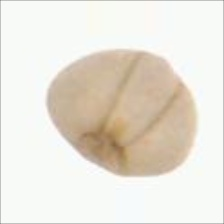L5: (99, 50, 186, 144), (75, 129, 133, 177), (137, 46, 187, 87)
L6: (44, 46, 199, 180)
